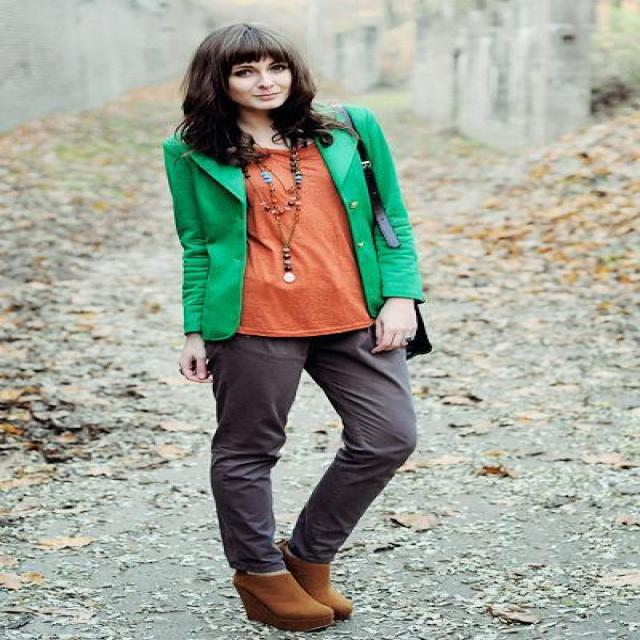bag: (336, 192, 384, 242)
jacket: (163, 109, 426, 339)
pants: (198, 323, 448, 579)
shirt: (238, 150, 374, 336)
shoe: (224, 563, 357, 633)
